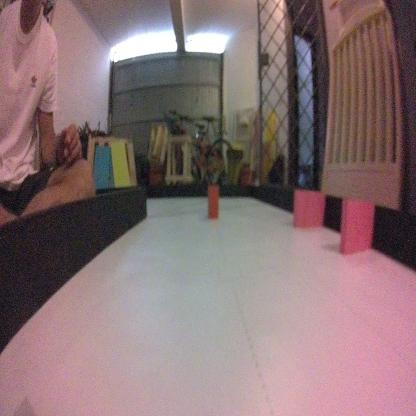magenta: (338, 198, 375, 258), (292, 188, 326, 232)
red: (206, 183, 220, 222)
